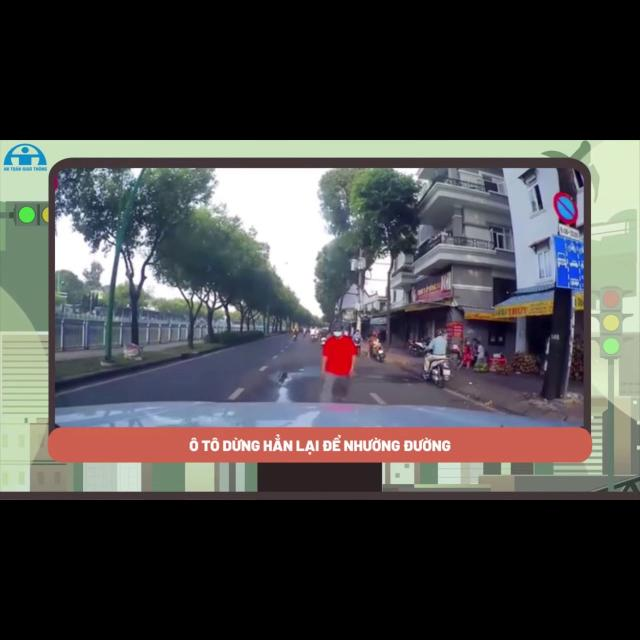motorcycle: (423, 352, 451, 388), (409, 339, 428, 357), (372, 340, 385, 362), (353, 338, 360, 355), (320, 337, 328, 347), (310, 334, 318, 342), (293, 333, 297, 341)
